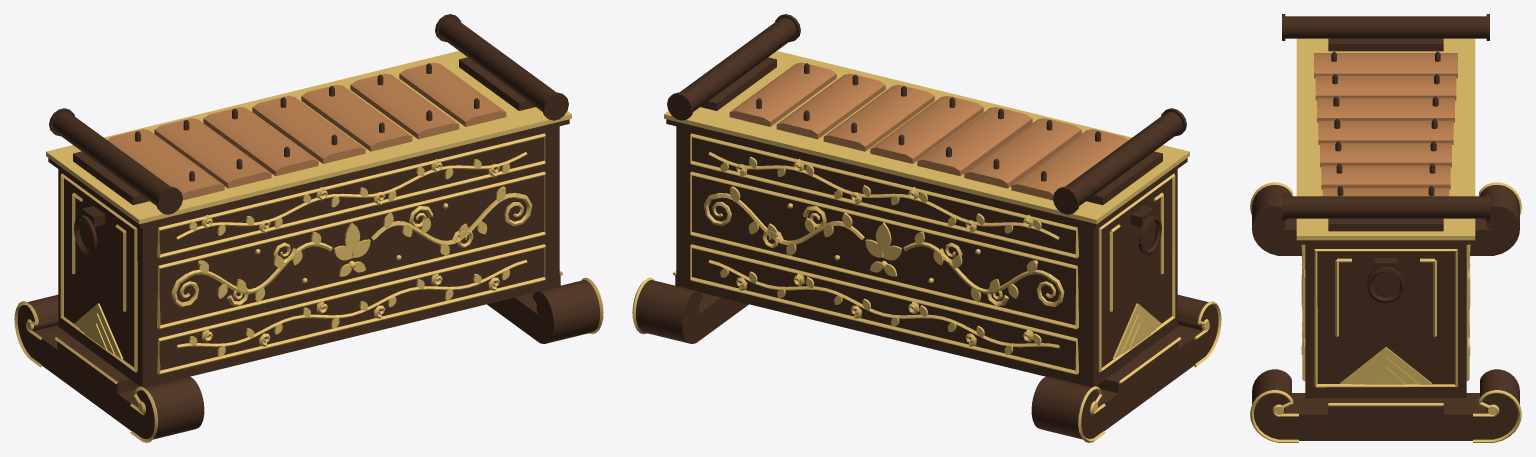
Rendered from SlenthemSet.fbx.
3 renders of one model, left to right at view 1: azimuth 30°, elevation 25°; view 2: azimuth 150°, elevation 25°; view 3: azimuth 270°, elevation 25°, orthographic. The views are drawn at different scales.
Parts seen in each view (by area): view 1: SlenthemSet_Mesh; view 2: SlenthemSet_Mesh; view 3: SlenthemSet_Mesh.
Part boxes in pixels (<box>): SlenthemSet_Mesh: <box>14,14,603,442</box>; SlenthemSet_Mesh: <box>632,14,1221,442</box>; SlenthemSet_Mesh: <box>1250,14,1521,442</box>.
Size of the model in its own units: 0.8655 by 0.4486 by 0.4724.
